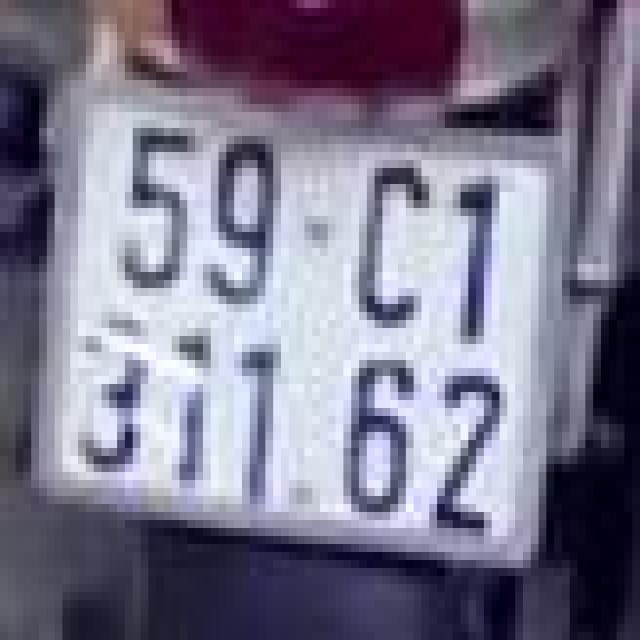1: (449, 168, 519, 352), (160, 308, 215, 508), (226, 328, 281, 528)
2: (433, 360, 519, 552)
3: (66, 300, 152, 484)
5: (106, 116, 192, 300)
6: (328, 336, 421, 544)
9: (195, 120, 297, 320)
C: (351, 140, 445, 348)
